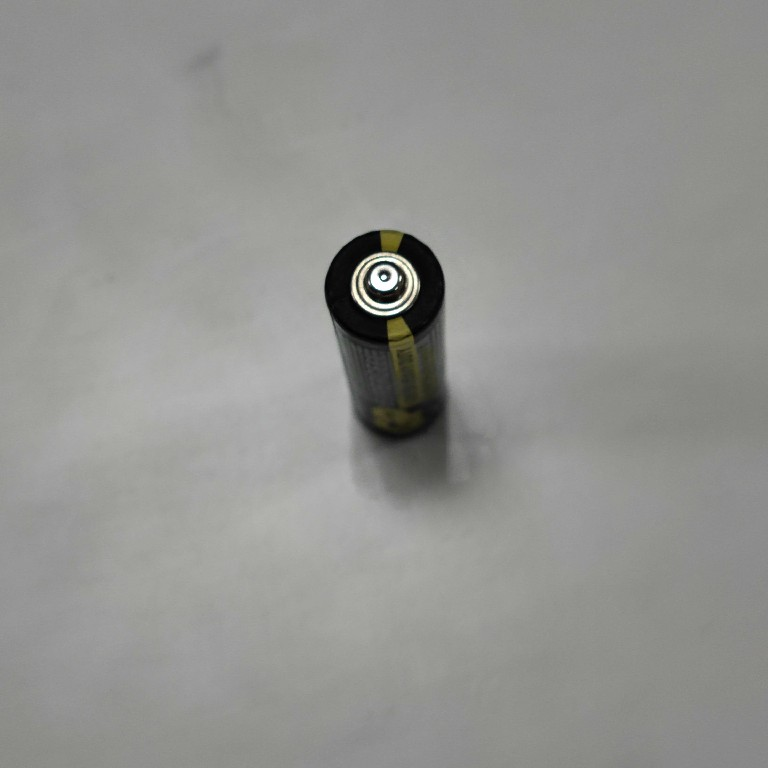charge: (323, 226, 452, 444)
